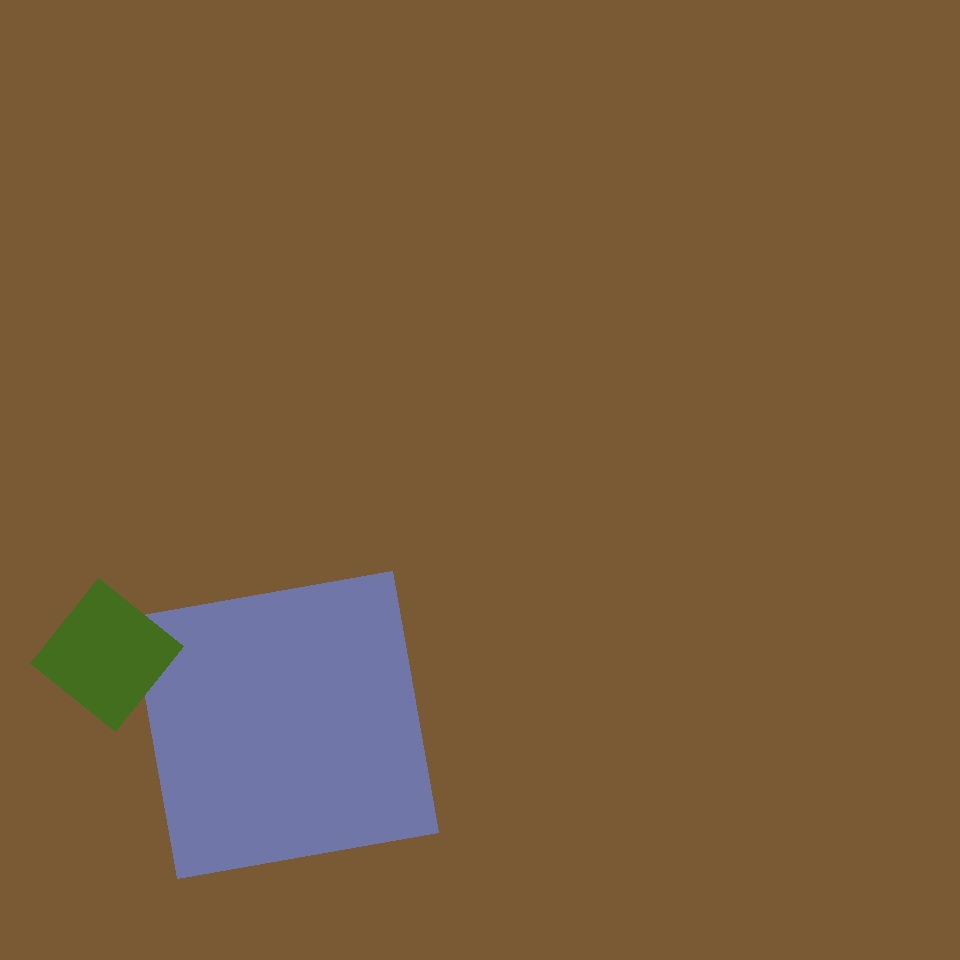square: (132, 572, 438, 878), (82, 49, 341, 308), (404, 554, 571, 721), (31, 578, 184, 732)
